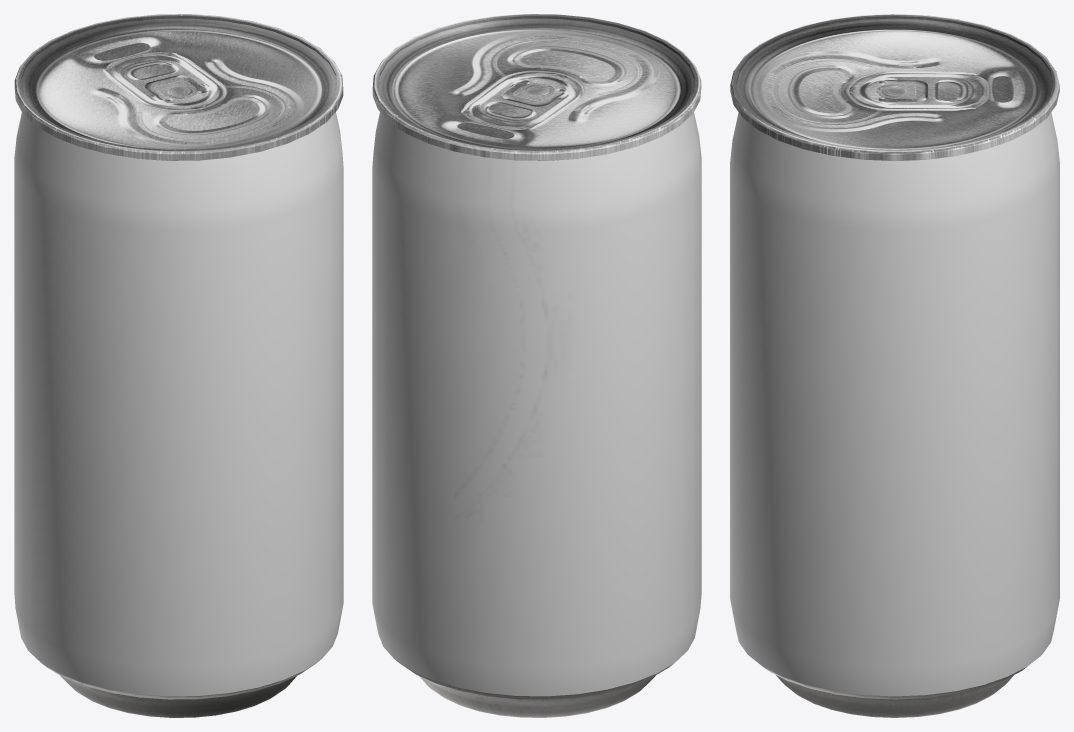
Rendered from metal_can.glb.
The picture shows the model from 3 angles, left to right: view 1: azimuth 30°, elevation 25°; view 2: azimuth 150°, elevation 25°; view 3: azimuth 270°, elevation 25°; orthographic projection.
Visible parts, largest first — view 1: Object_2; view 2: Object_2; view 3: Object_2.
Boxes of the visible parts, x1,y1,x2,y2 form: Object_2: (14, 14, 343, 717); Object_2: (372, 14, 701, 717); Object_2: (730, 14, 1059, 717).
Bounding box in the file's own units: 2 × 3.93 × 2.
1 material, 1 textured.
